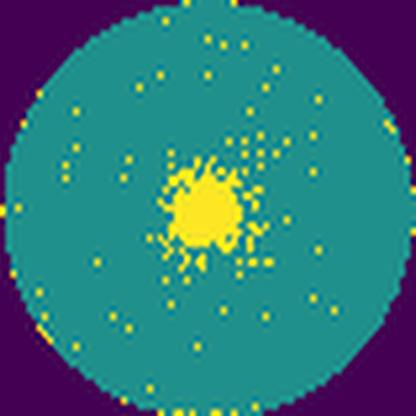Center: (158, 154, 250, 257)
